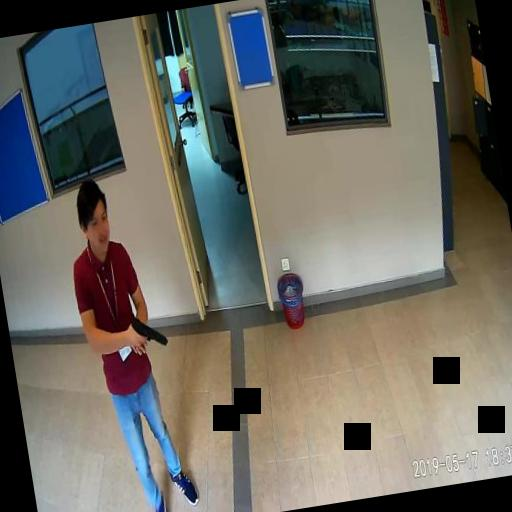Handgun: (129, 312, 167, 354)
